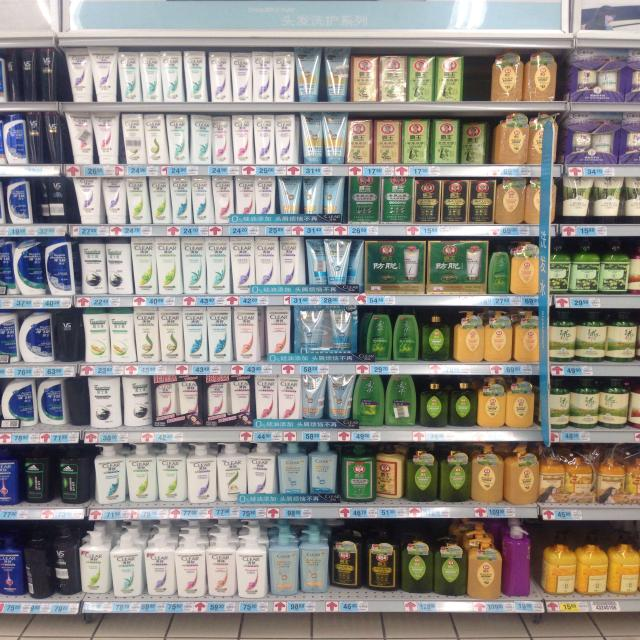unorganised: (364, 521, 402, 592), (19, 527, 55, 600), (370, 442, 407, 505), (330, 524, 365, 590), (460, 121, 490, 167)
